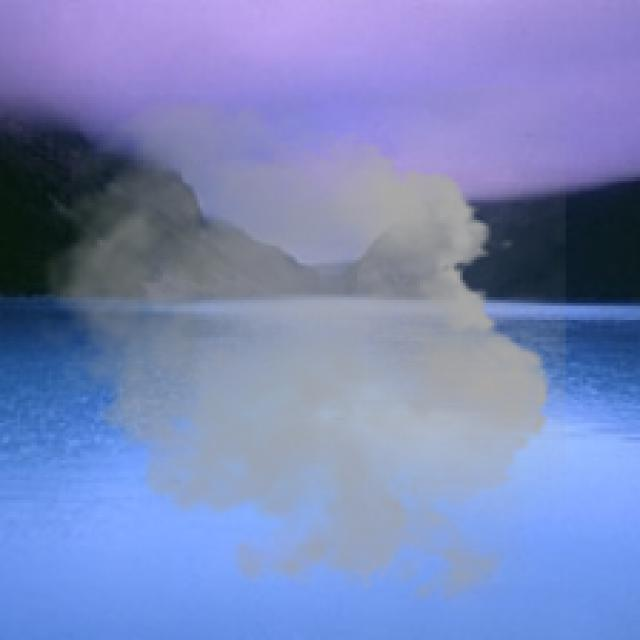smoke: (23, 86, 566, 620)
